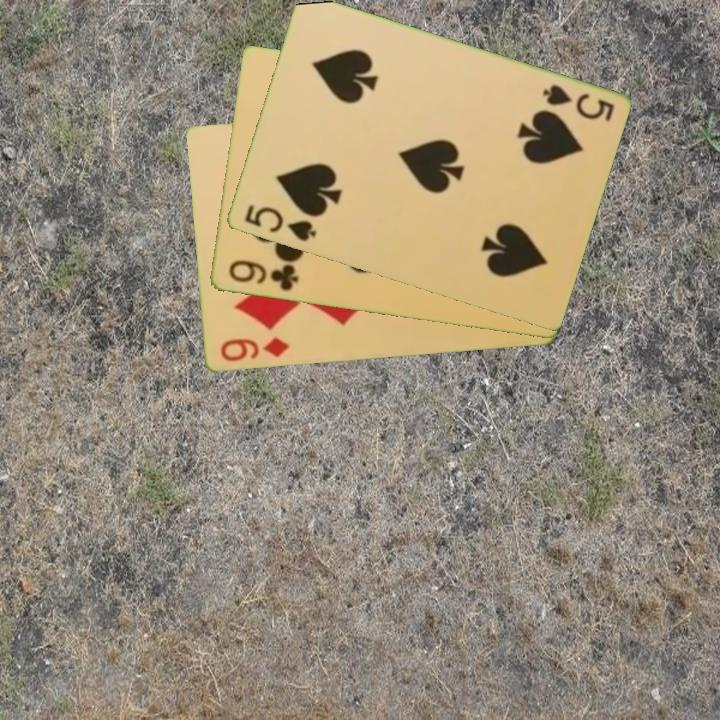5s: (240, 201, 319, 245), (538, 81, 617, 125)
9c: (225, 256, 301, 294)
9d: (216, 334, 292, 365)
